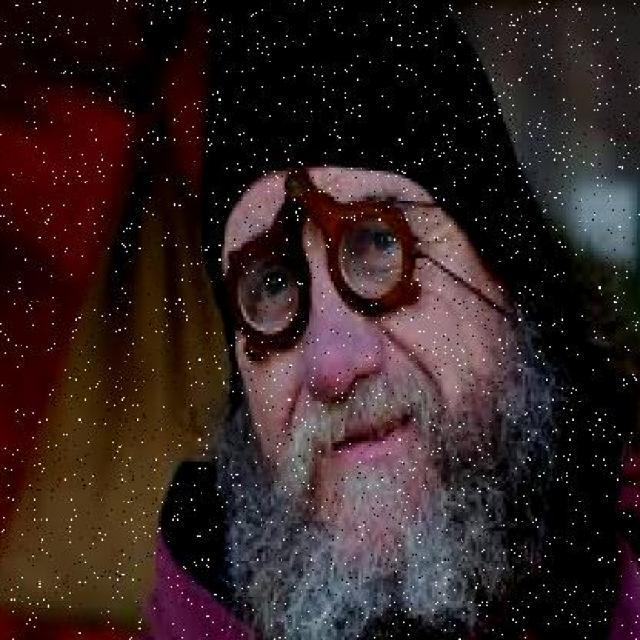glasses: (222, 192, 418, 338)
